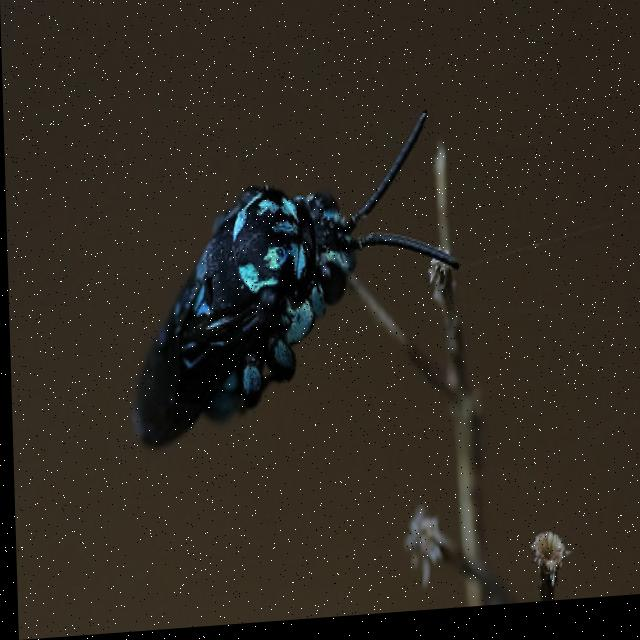Xylocopa: (113, 86, 468, 465)
